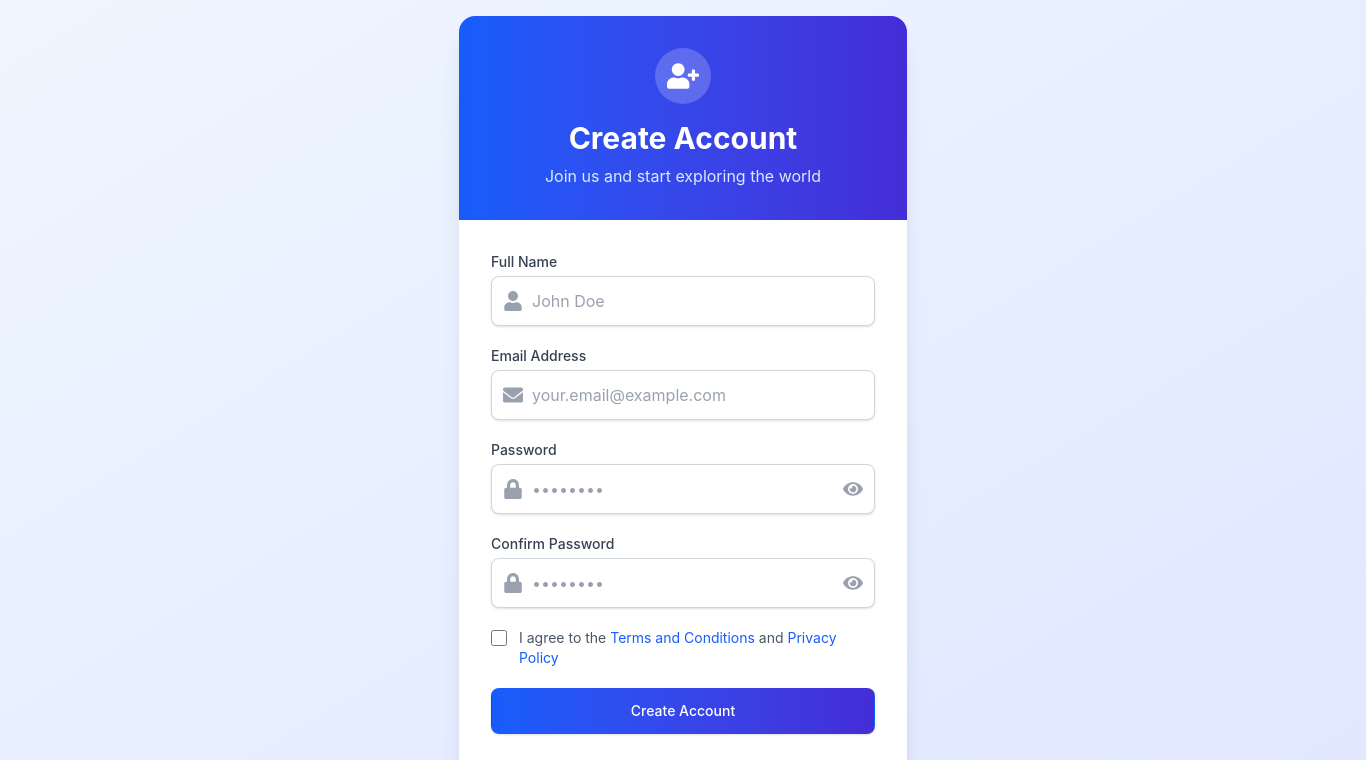
Test case: SignUp Component › shows error when submitting empty form
This screenshot has width=1366, height=760.
What coordinates should you click on to do the following:
click the button "Create Account"
I would click on:
 (683, 711)
Its box is [491,688,875,734].
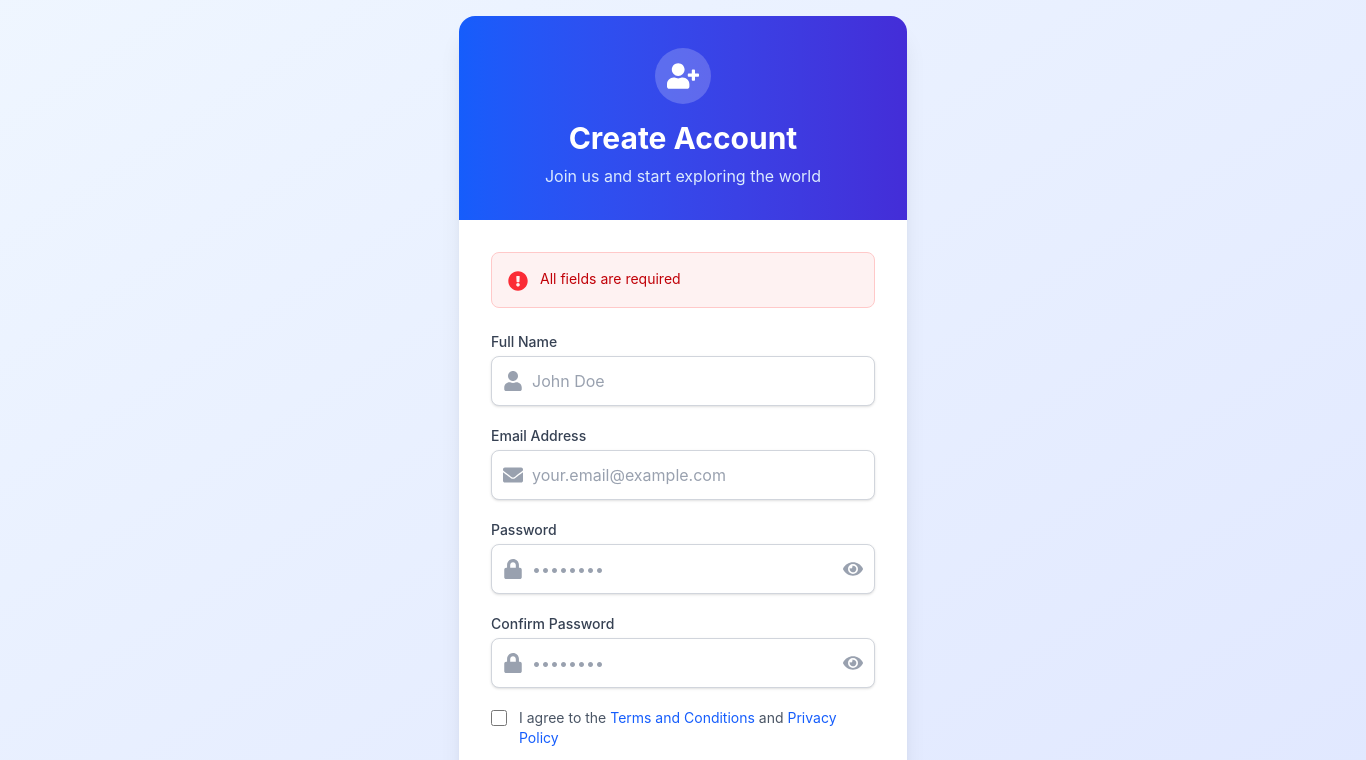
Expected: the text "All fields are required" is shown, [540,269,681,289]
